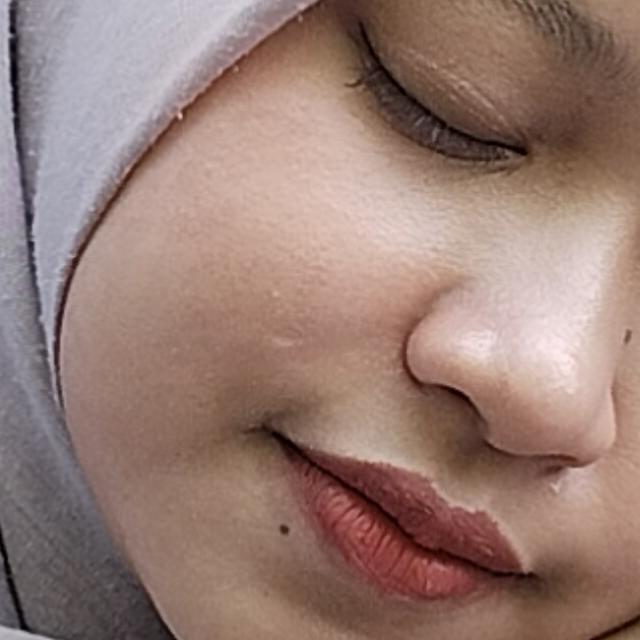tidur: (0, 248, 640, 640)
